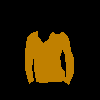maglia: (24, 30, 74, 84)
